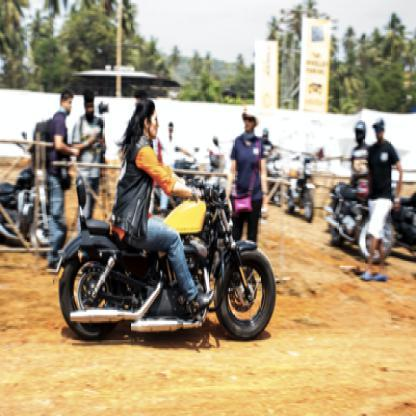With Helmet: (353, 119, 368, 145)
Without Helmet: (128, 95, 166, 155)
